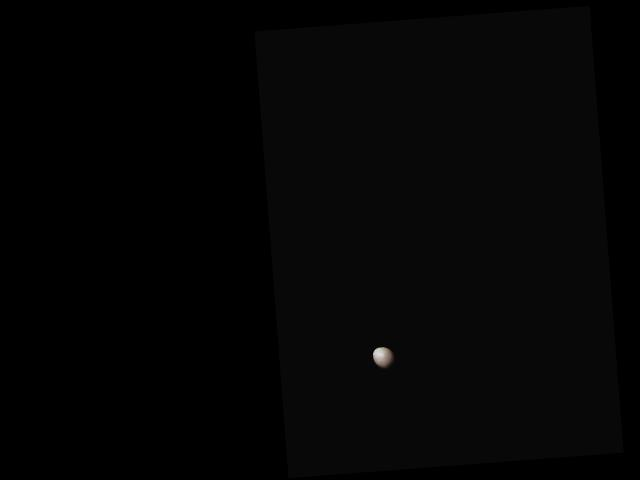egg: (372, 346, 396, 371)
